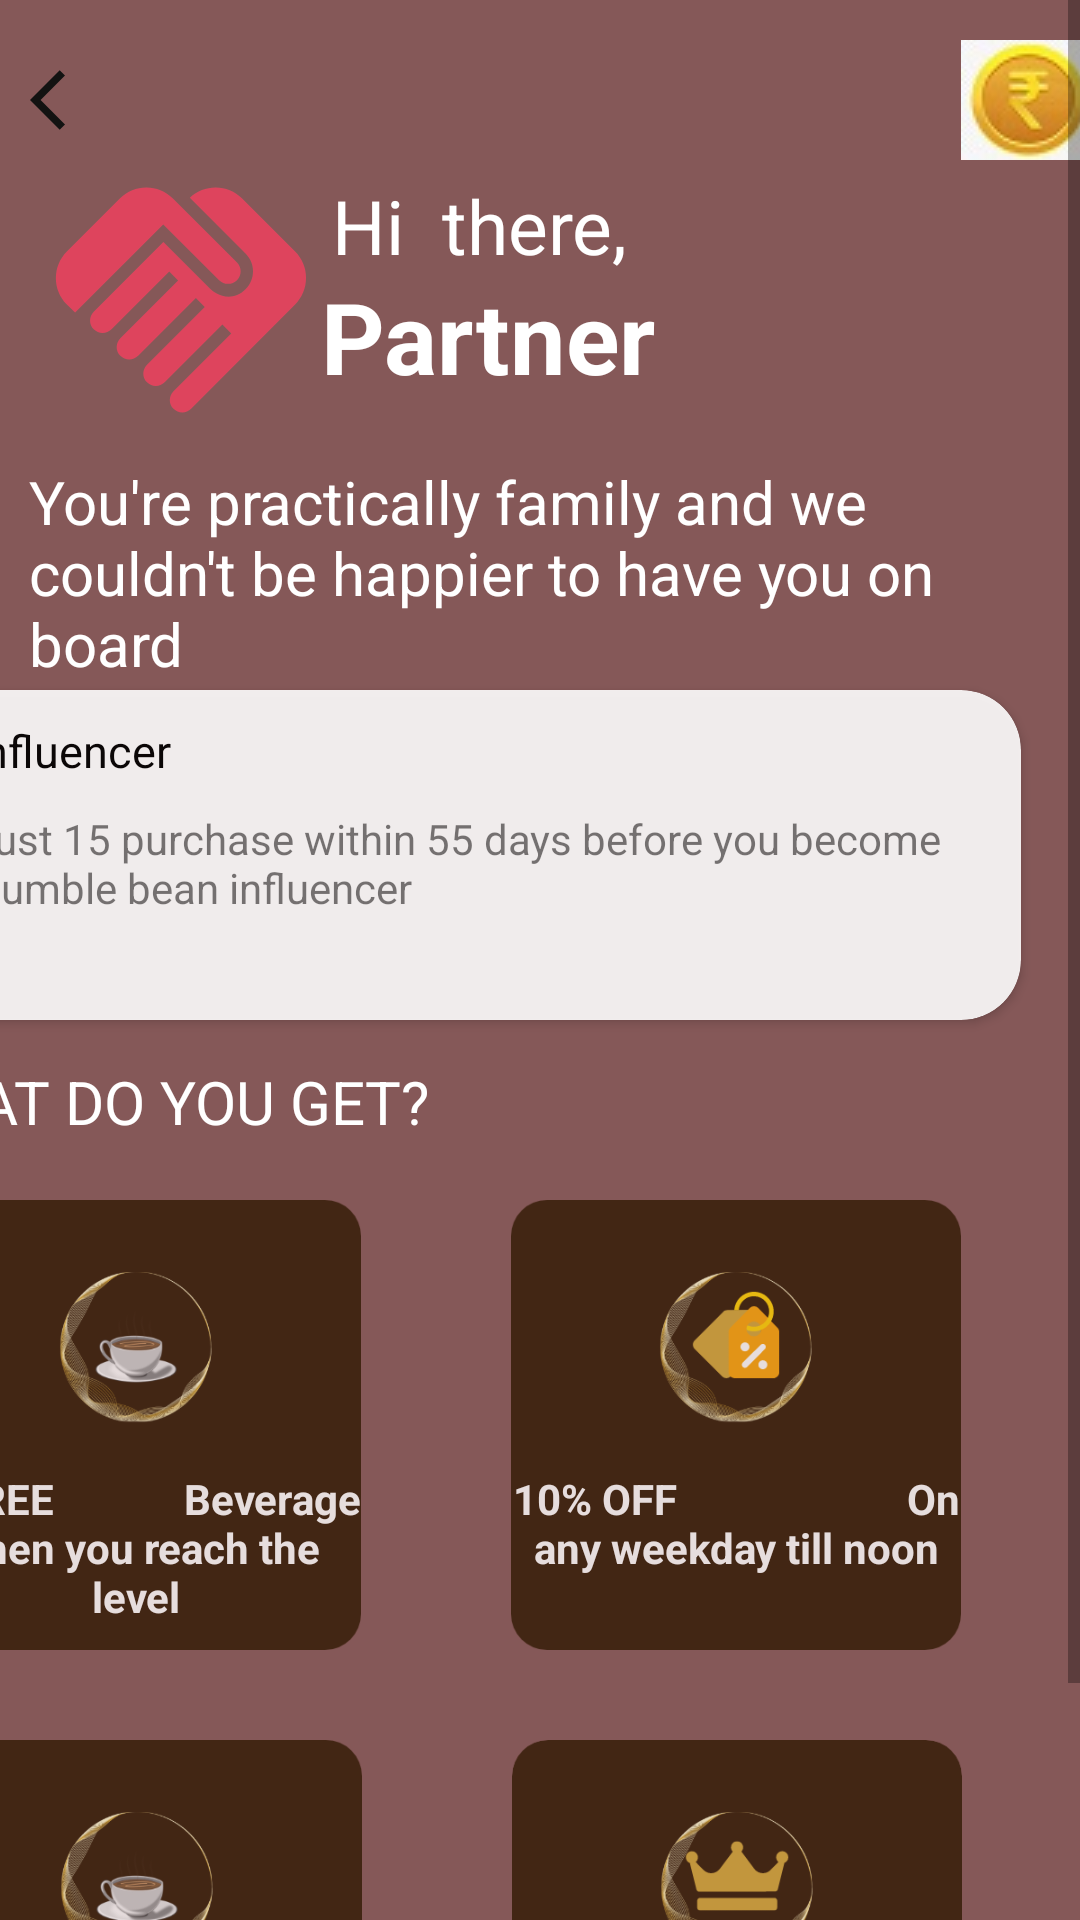

Screen size 1080×1920. Icon name, then its box in pixels as [x1,y1,x2,y2]:
handshake: [56,187,306,413]
